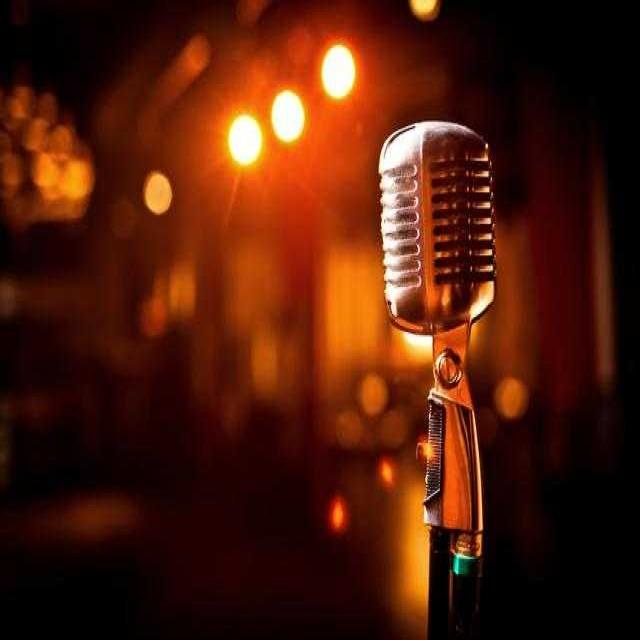microphone: (379, 121, 497, 341)
